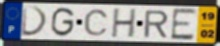C: (83, 8, 110, 37)
D: (20, 5, 50, 37)
E: (169, 7, 198, 41)
G: (49, 7, 76, 38)
H: (110, 8, 139, 40)
R: (143, 10, 170, 39)
